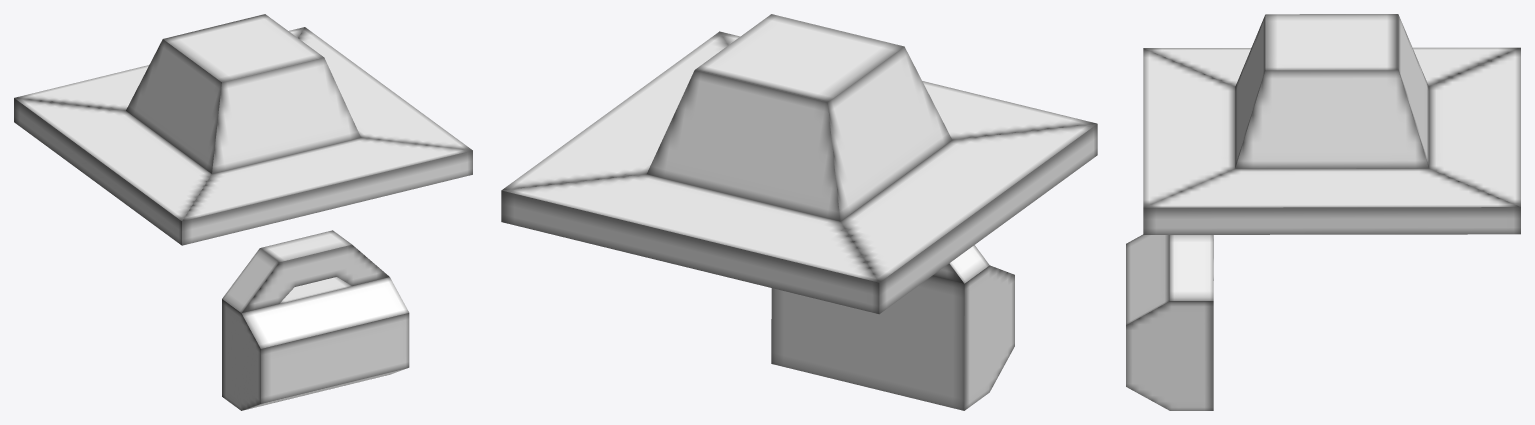
The model's file is Hat-01.fbx.
3 renders of one model, left to right at view 1: azimuth 30°, elevation 25°; view 2: azimuth 150°, elevation 25°; view 3: azimuth 270°, elevation 25°, orthographic. The views are drawn at different scales.
Parts seen in each view (by area): view 1: Hat_01; view 2: Hat_01; view 3: Hat_01.
Part boxes in pixels (x1,y1,x2,y2): Hat_01: [14, 14, 472, 410]; Hat_01: [501, 14, 1097, 410]; Hat_01: [1126, 14, 1520, 410].
Bounding box in the file's own units: 0.2886 × 0.2768 × 0.3018.
